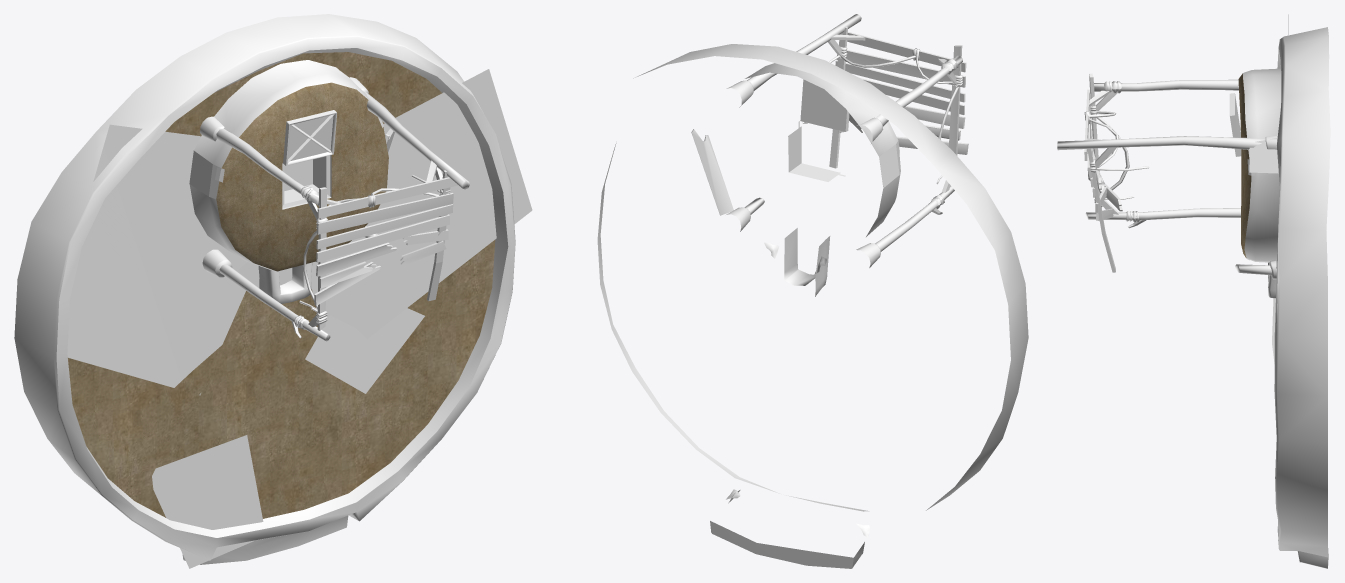
Rendered from egypt_prop_well2.glb.
The picture shows the model from 3 angles, left to right: view 1: azimuth 30°, elevation 25°; view 2: azimuth 150°, elevation 25°; view 3: azimuth 270°, elevation 25°; orthographic projection. The views are drawn at different scales.
Size of the model in its own units: 285 by 290 by 145.
6 materials, 1 textured.
